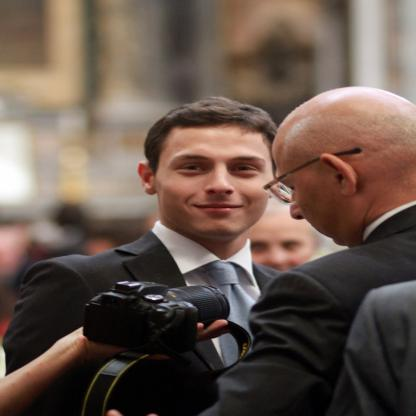Camera: (84, 276, 235, 352)
